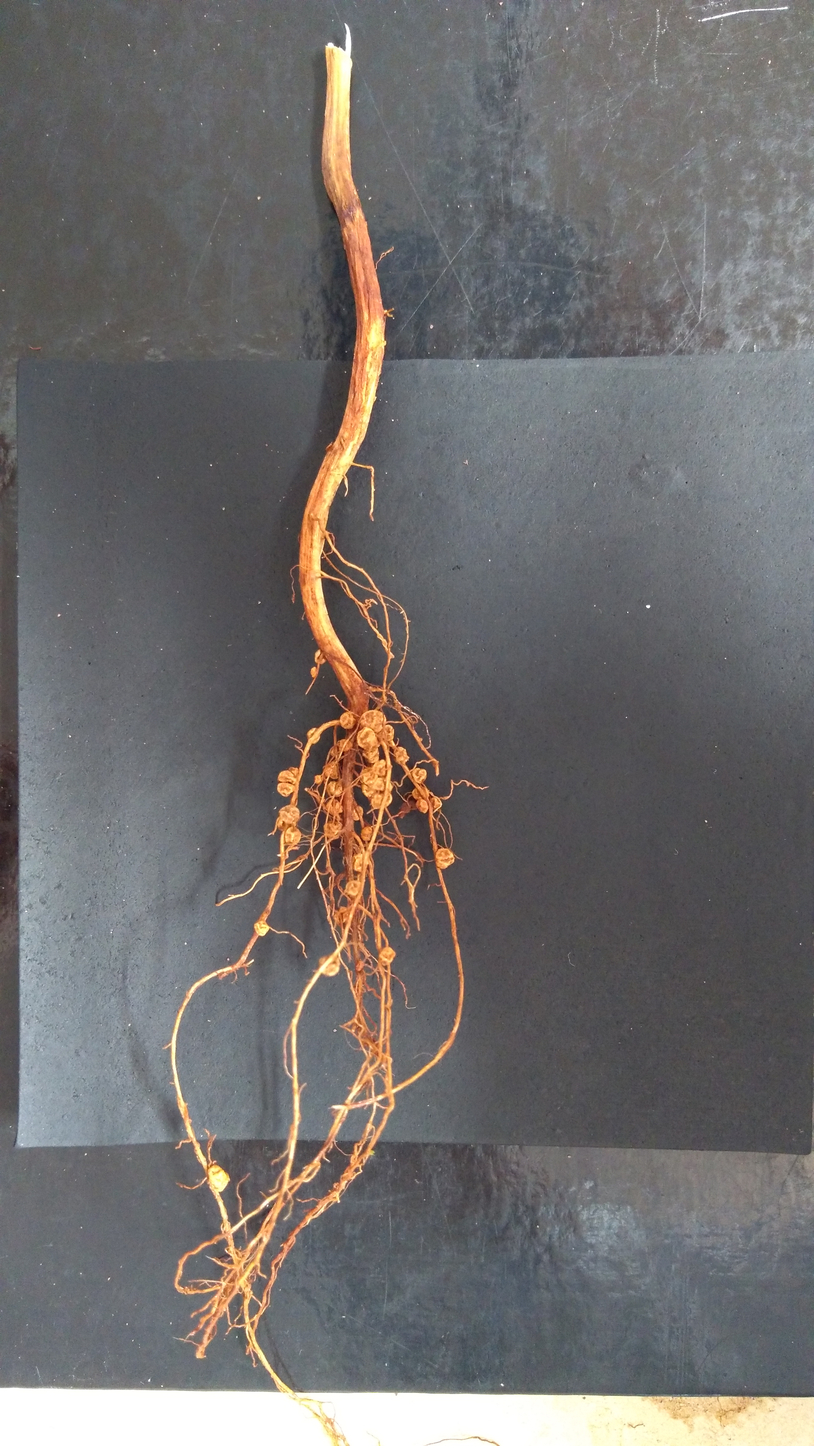nodule: (358, 765, 395, 792), (205, 1164, 233, 1193), (316, 953, 343, 979), (356, 726, 380, 750), (359, 709, 383, 732), (434, 847, 457, 870), (321, 820, 345, 840), (278, 804, 302, 823), (378, 945, 397, 968), (370, 791, 393, 810), (360, 781, 383, 799), (338, 711, 357, 731), (343, 879, 362, 899), (275, 781, 297, 798), (275, 816, 298, 832), (276, 769, 297, 786), (284, 826, 302, 845), (252, 920, 271, 938), (392, 745, 410, 764), (325, 797, 344, 815), (323, 760, 340, 780), (361, 747, 381, 764), (371, 758, 388, 777), (411, 785, 431, 800), (337, 737, 354, 754), (378, 724, 395, 741), (411, 767, 428, 784), (352, 852, 365, 874), (306, 726, 321, 745), (327, 780, 343, 797), (360, 825, 374, 843), (430, 795, 443, 814), (401, 798, 416, 814), (313, 649, 327, 665), (416, 798, 430, 814), (352, 805, 364, 822), (287, 765, 300, 778), (332, 911, 342, 925), (341, 909, 350, 922), (313, 774, 322, 786), (337, 904, 347, 913), (310, 666, 317, 678)
